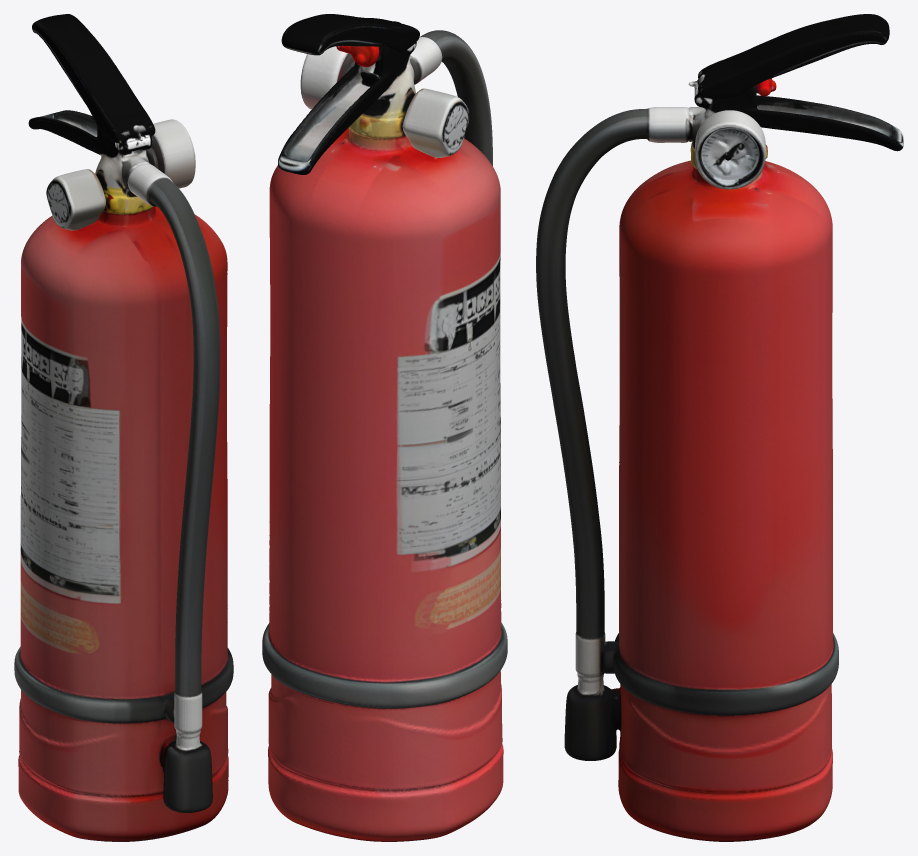
Rendered from estintore antincendio 3d.glb.
The picture shows the model from 3 angles, left to right: view 1: azimuth 30°, elevation 25°; view 2: azimuth 150°, elevation 25°; view 3: azimuth 270°, elevation 25°; orthographic projection. The views are drawn at different scales.
Parts seen in each view (by area): view 1: tripo_node_d3a7e9dc-70a9-4b3c-95a4-670f66feae31; view 2: tripo_node_d3a7e9dc-70a9-4b3c-95a4-670f66feae31; view 3: tripo_node_d3a7e9dc-70a9-4b3c-95a4-670f66feae31.
Boxes of the visible parts, x1,y1,x2,y2 form: tripo_node_d3a7e9dc-70a9-4b3c-95a4-670f66feae31: (14,14,233,841); tripo_node_d3a7e9dc-70a9-4b3c-95a4-670f66feae31: (262,14,507,841); tripo_node_d3a7e9dc-70a9-4b3c-95a4-670f66feae31: (536,14,903,841).
Size of the model in its own units: 0.2657 by 1 by 0.4251.
Materials: 1 (1 with a texture image).
